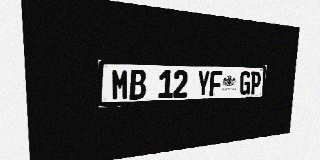1: (158, 70, 173, 98)
2: (173, 70, 188, 98)
B: (129, 69, 146, 100)
F: (209, 71, 222, 96)
G: (239, 71, 251, 95)
M: (111, 69, 129, 100)
P: (250, 71, 261, 95)
Y: (196, 70, 210, 97)
